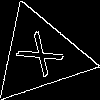X: (15, 30, 74, 86)
